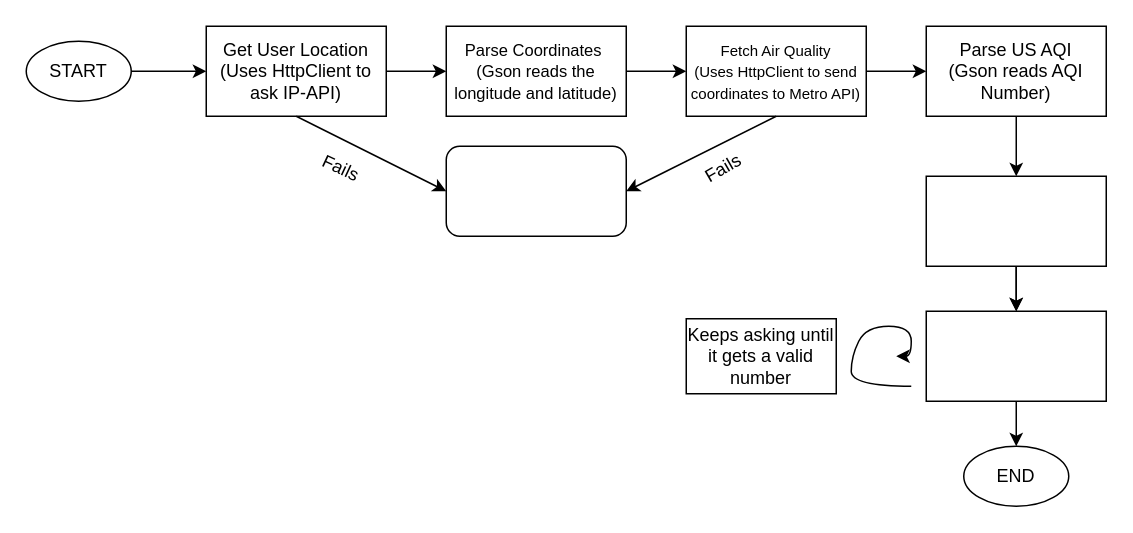
Image size: 1133x533. Some labels were removed from this diagram. The shapes that lost their labels are listed below. From the top down, each one's centre as x and y in pixels, then its label:
At [535,190]: "Shows Error and ends the program".
At [1015,220]: "Translate AQI to words (Good, Moderate, Unhealthy)".
At [1015,355]: "Ask for Warning level (IO.readln, 0 - 500)".
